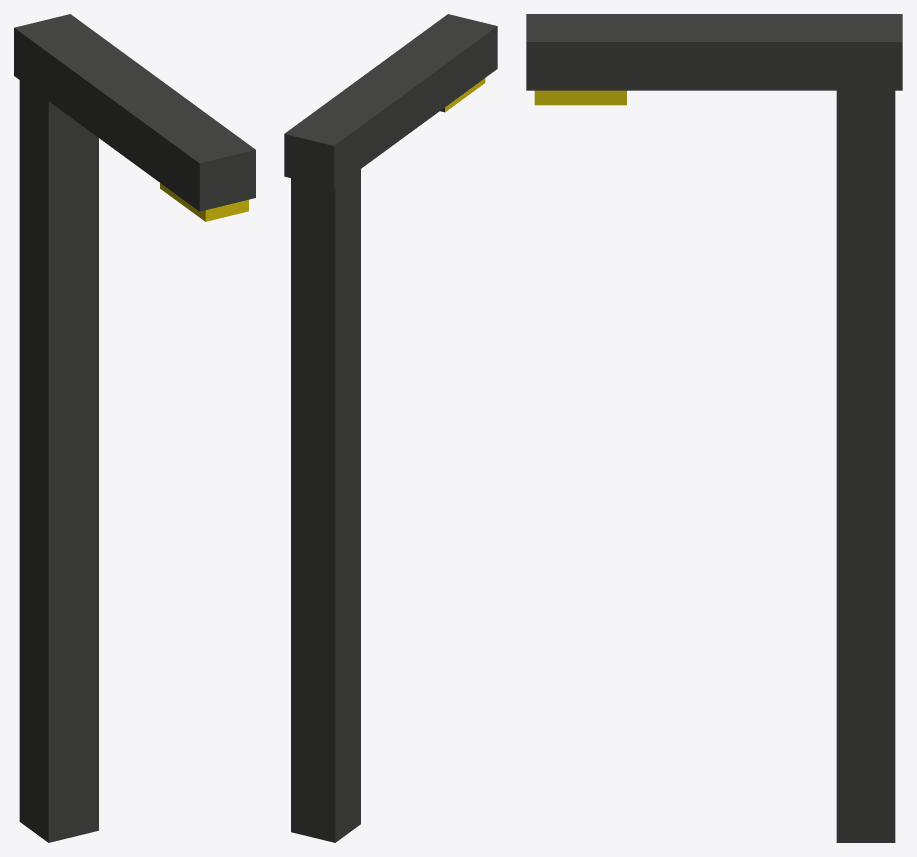
File: ChceszDostacWLampe.fbx
3 renders of one model, left to right at view 1: azimuth 30°, elevation 25°; view 2: azimuth 150°, elevation 25°; view 3: azimuth 270°, elevation 25°, orthographic. The views are drawn at different scales.
Visible parts, largest first — view 1: Cube; view 2: Cube; view 3: Cube.
Part boxes in pixels (x1,y1,x2,y2): Cube: [14, 14, 255, 842]; Cube: [284, 14, 497, 842]; Cube: [526, 14, 902, 842].
Bounding box in the file's own units: 44.72 × 601 × 255.
